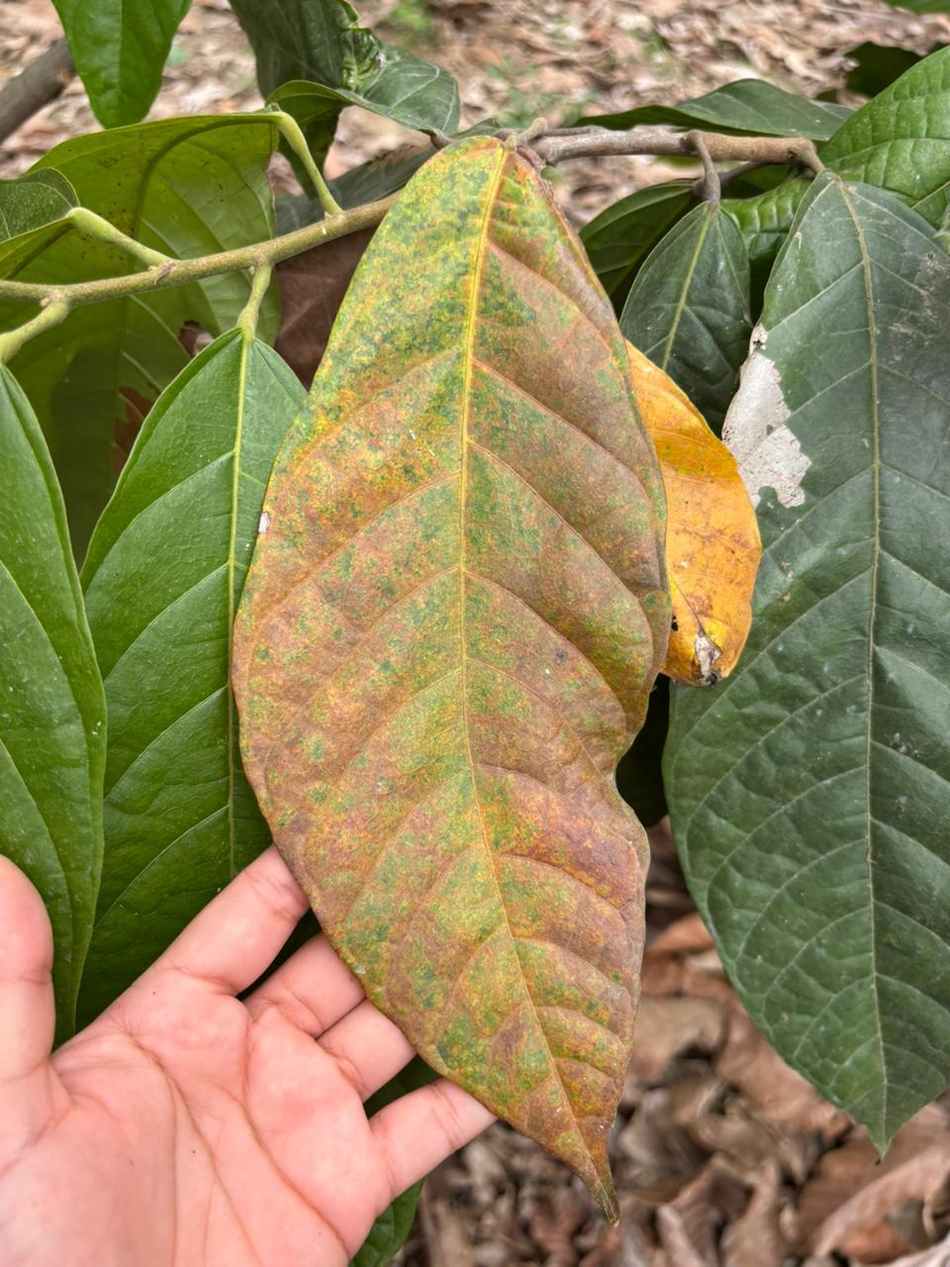Fosforo: (235, 138, 669, 1216)
